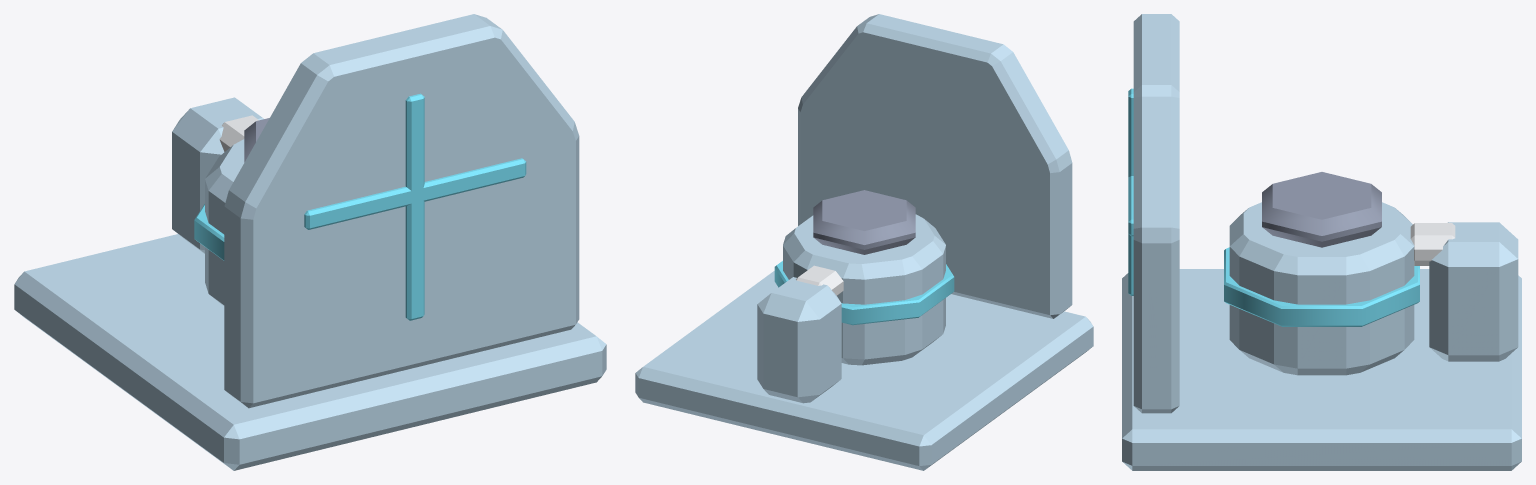
The model's file is R4X_DefensiveTurretDeployer_LOD1.glb.
The picture shows the model from 3 angles, left to right: view 1: azimuth 30°, elevation 25°; view 2: azimuth 150°, elevation 25°; view 3: azimuth 270°, elevation 25°; orthographic projection. The views are drawn at different scales.
Parts seen in each view (by area): view 1: R4X_DefensiveTurretDeployer_LOD1; view 2: R4X_DefensiveTurretDeployer_LOD1; view 3: R4X_DefensiveTurretDeployer_LOD1.
Boxes of the visible parts, box(x1,y1,x2,y2) form: R4X_DefensiveTurretDeployer_LOD1: box(14, 14, 606, 470); R4X_DefensiveTurretDeployer_LOD1: box(635, 14, 1093, 470); R4X_DefensiveTurretDeployer_LOD1: box(1122, 14, 1521, 470).
Size of the model in its own units: 0.52 by 0.49 by 0.52.
